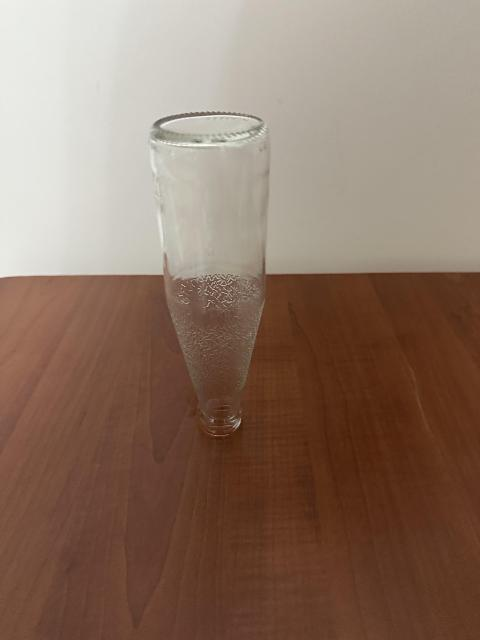Cam: (144, 108, 271, 437)
